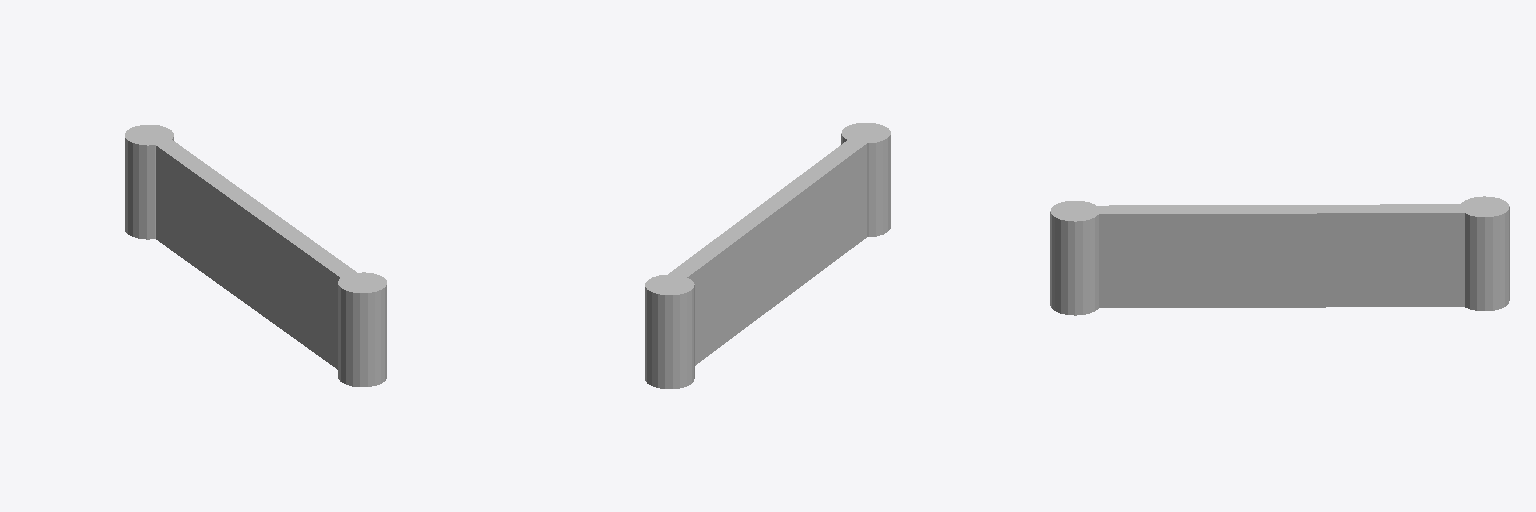
Rendered from Walls11.obj.
3 views of the same model, side by side, from view 1: azimuth 30°, elevation 25°; view 2: azimuth 150°, elevation 25°; view 3: azimuth 270°, elevation 25° (orthographic).
Parts seen in each view (by area): view 1: polySurface75; view 2: polySurface75; view 3: polySurface75.
Boxes of the visible parts, x1,y1,x2,y2 form: polySurface75: [125, 125, 386, 386]; polySurface75: [645, 123, 890, 388]; polySurface75: [1050, 196, 1509, 315].
Bounding box in the file's own units: 2.87 × 5 × 22.14.